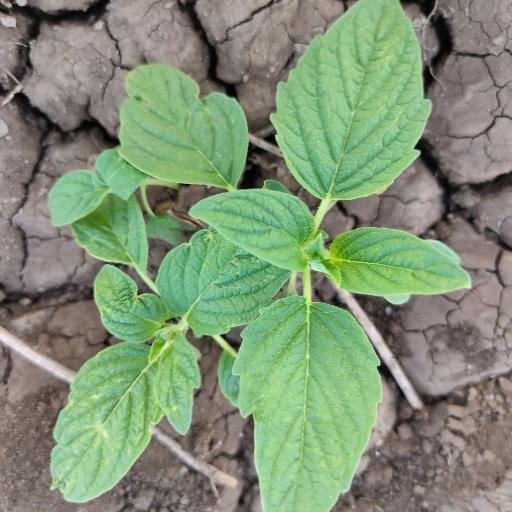crop: (40, 2, 476, 512)
